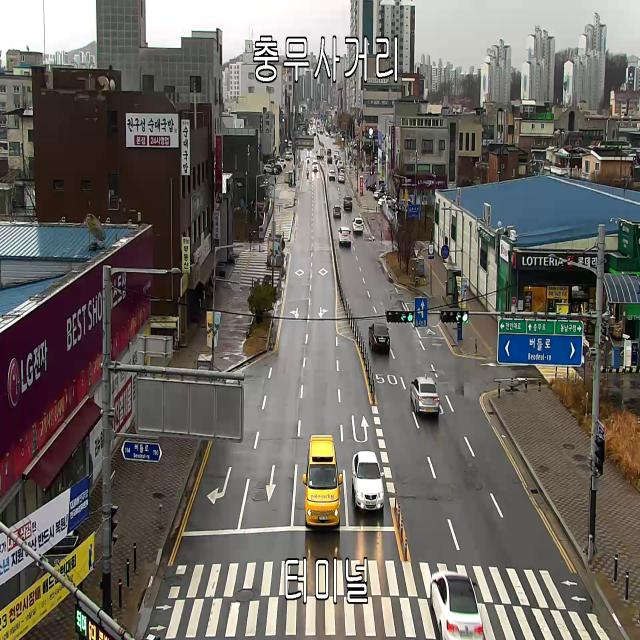Car: (430, 571, 484, 640), (302, 434, 342, 526), (352, 451, 384, 511), (410, 374, 440, 412), (368, 323, 390, 350), (338, 227, 352, 244), (378, 195, 396, 207), (352, 217, 364, 232), (262, 164, 278, 174), (376, 192, 388, 202), (343, 196, 352, 209), (373, 188, 385, 197), (333, 205, 341, 217), (277, 159, 286, 169), (312, 160, 318, 171), (328, 170, 336, 178), (338, 173, 344, 182), (339, 169, 346, 176), (327, 148, 332, 156), (334, 150, 339, 158), (328, 156, 332, 163), (374, 156, 377, 164), (306, 157, 310, 163), (336, 156, 340, 162)
Motorcycle: (307, 167, 309, 176)
Truck: (316, 148, 324, 159)
